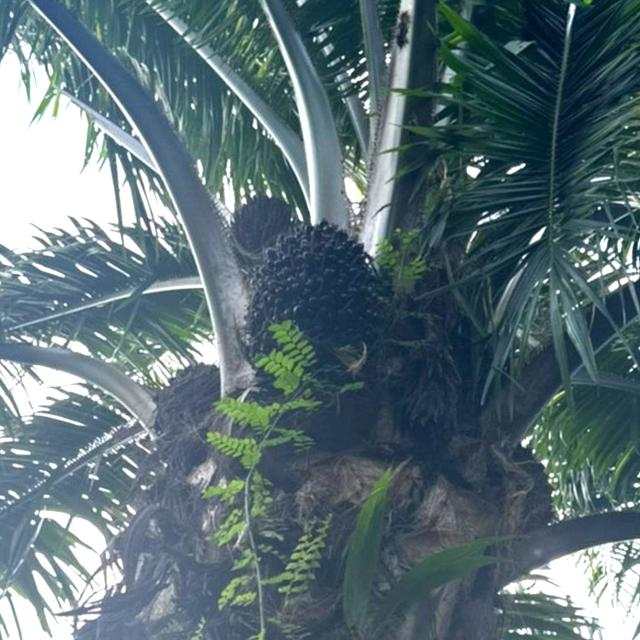almost: (240, 218, 384, 376)
